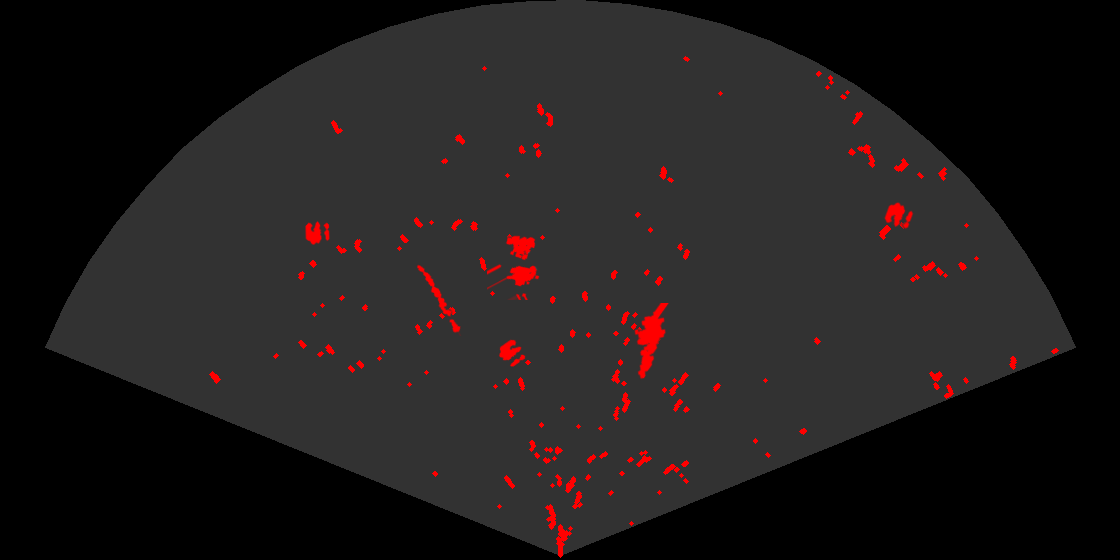ball: (883, 201, 915, 231), (497, 338, 527, 368), (304, 219, 331, 246)
cage: (487, 234, 541, 300)
chain: (415, 263, 463, 336)
frogman: (633, 303, 671, 381)
